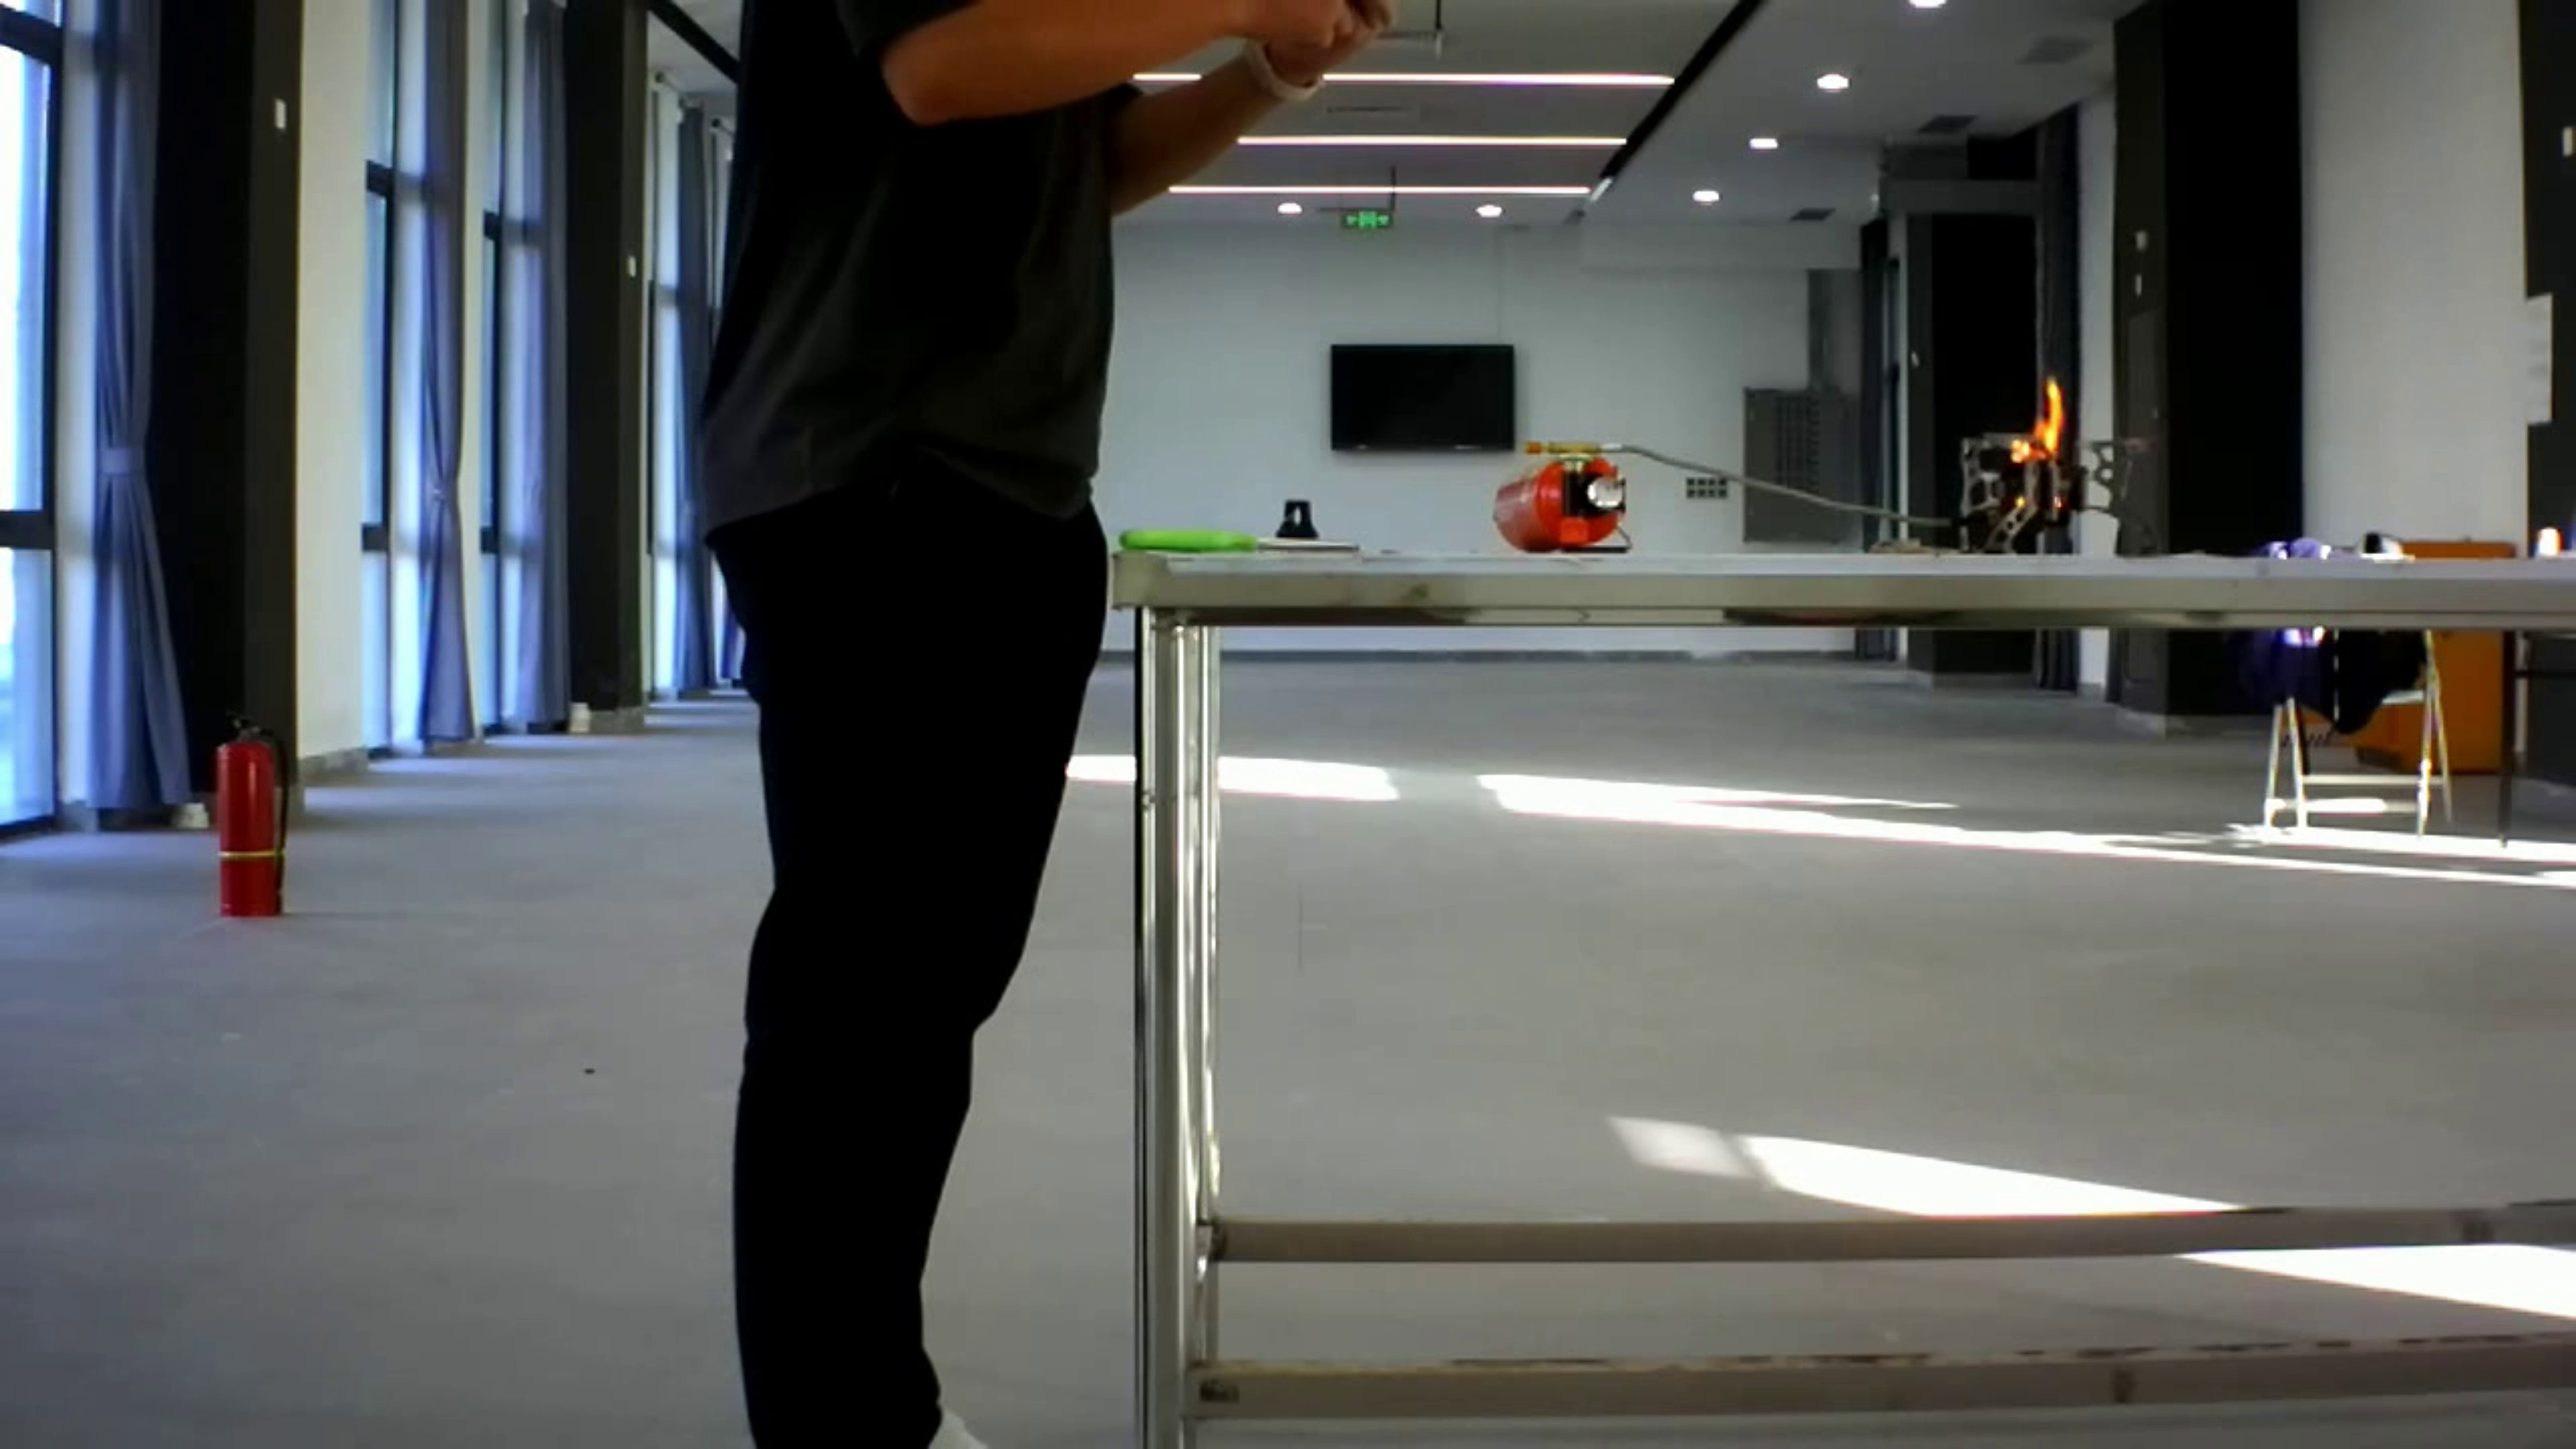Fire: (1987, 361, 2077, 502)
